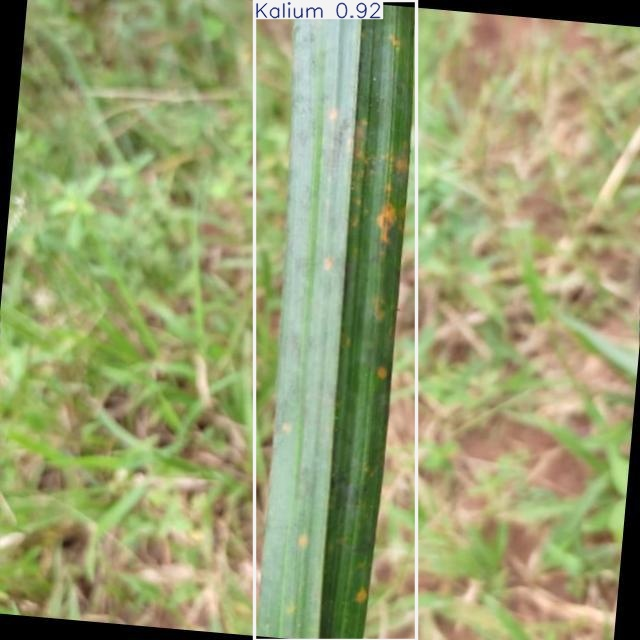Kalium: (255, 1, 417, 640)
